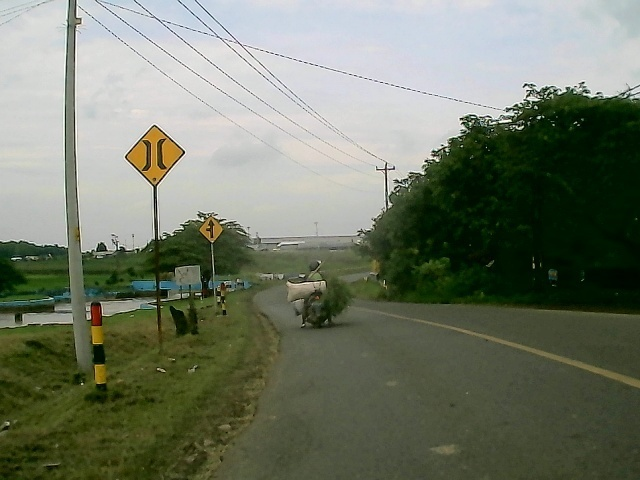Jembatan: (121, 123, 187, 188)
Simpang kiri dengan prioritas: (198, 215, 224, 245)
